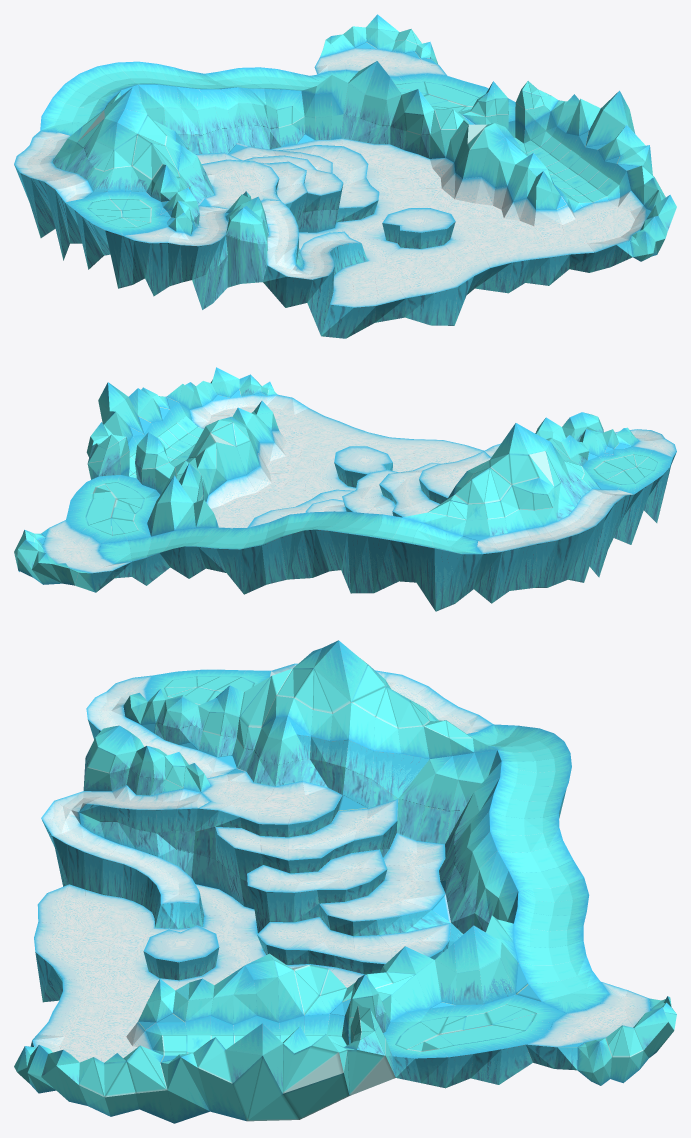
Rendered from test-zone2.glb.
3 views of the same model, one above another, from view 1: azimuth 30°, elevation 25°; view 2: azimuth 150°, elevation 25°; view 3: azimuth 270°, elevation 25° (orthographic). The views are drawn at different scales.
Parts seen in each view (by area): view 1: Frame_0.009; view 2: Frame_0.009; view 3: Frame_0.009.
Boxes of the visible parts, x1,y1,x2,y2 form: Frame_0.009: (14, 14, 676, 338); Frame_0.009: (14, 367, 676, 611); Frame_0.009: (14, 640, 676, 1123).
Bounding box in the file's own units: 170 × 57.47 × 142.
Materials: 1 (1 with a texture image).
